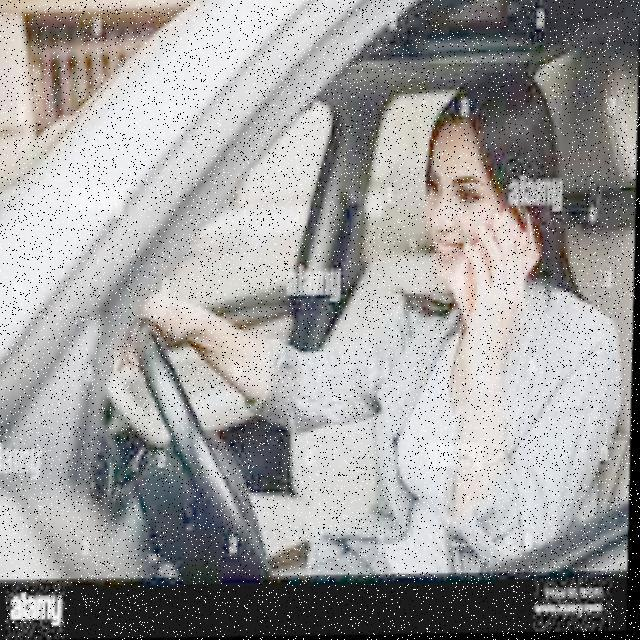noSeatbelt: (350, 266, 626, 576)
